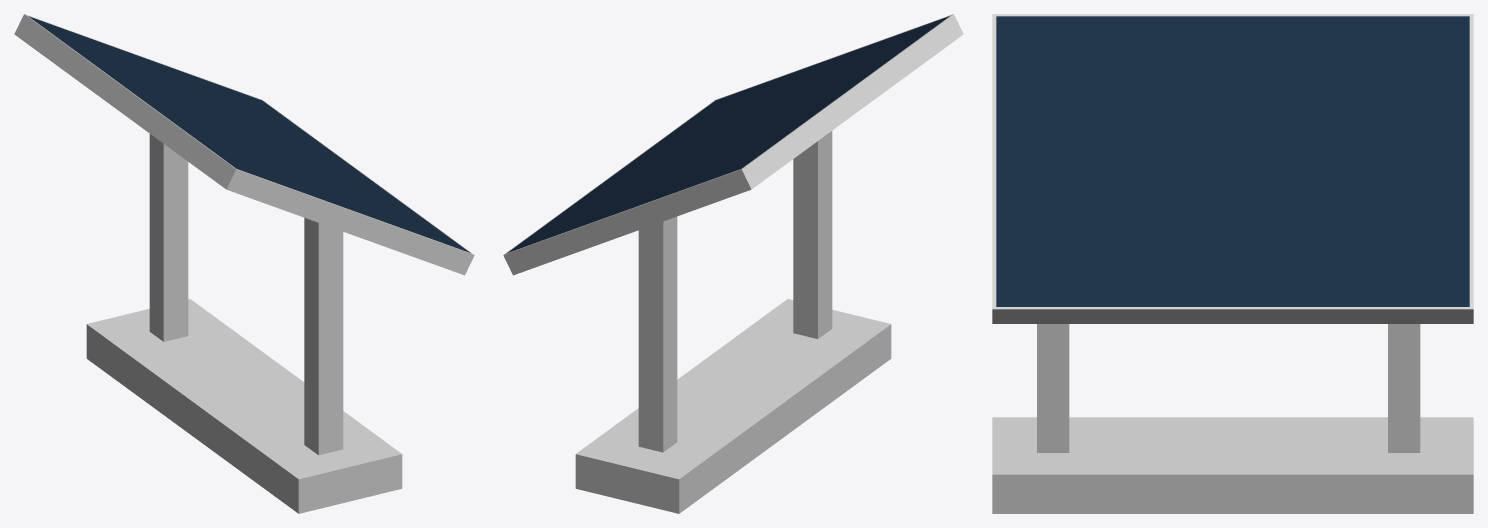
File: SolarPanel.glb
3 renders of one model, left to right at view 1: azimuth 30°, elevation 25°; view 2: azimuth 150°, elevation 25°; view 3: azimuth 270°, elevation 25°, orthographic. The views are drawn at different scales.
Parts seen in each view (by area): view 1: Cube.022; view 2: Cube.022; view 3: Cube.022.
Part boxes in pixels (x1=…): Cube.022: x1=14, y1=14, x2=474, y2=513; Cube.022: x1=503, y1=14, x2=963, y2=513; Cube.022: x1=992, y1=14, x2=1473, y2=513.
Size of the model in its own units: 1.2 by 1.67 by 1.78.
